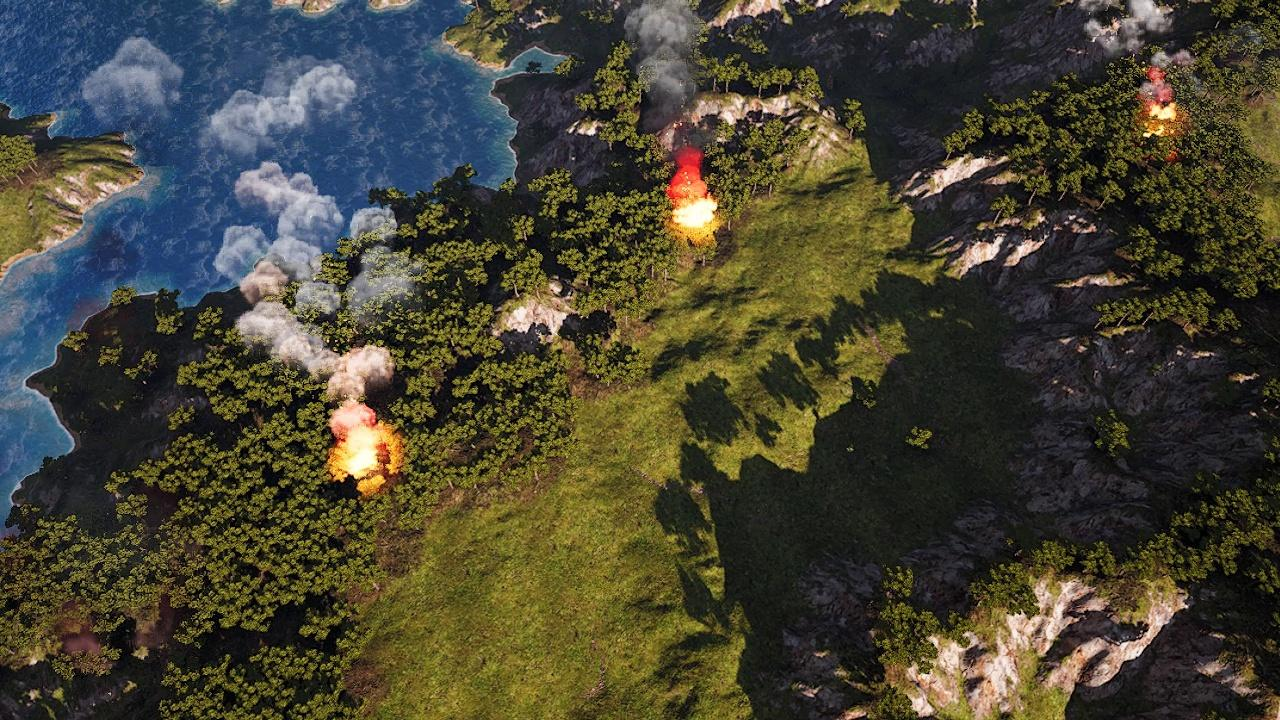fire: (329, 421, 395, 481), (669, 159, 720, 234), (1145, 103, 1177, 124)
smoke: (210, 55, 423, 413), (621, 0, 712, 116), (85, 37, 185, 133), (1059, 0, 1192, 65)
